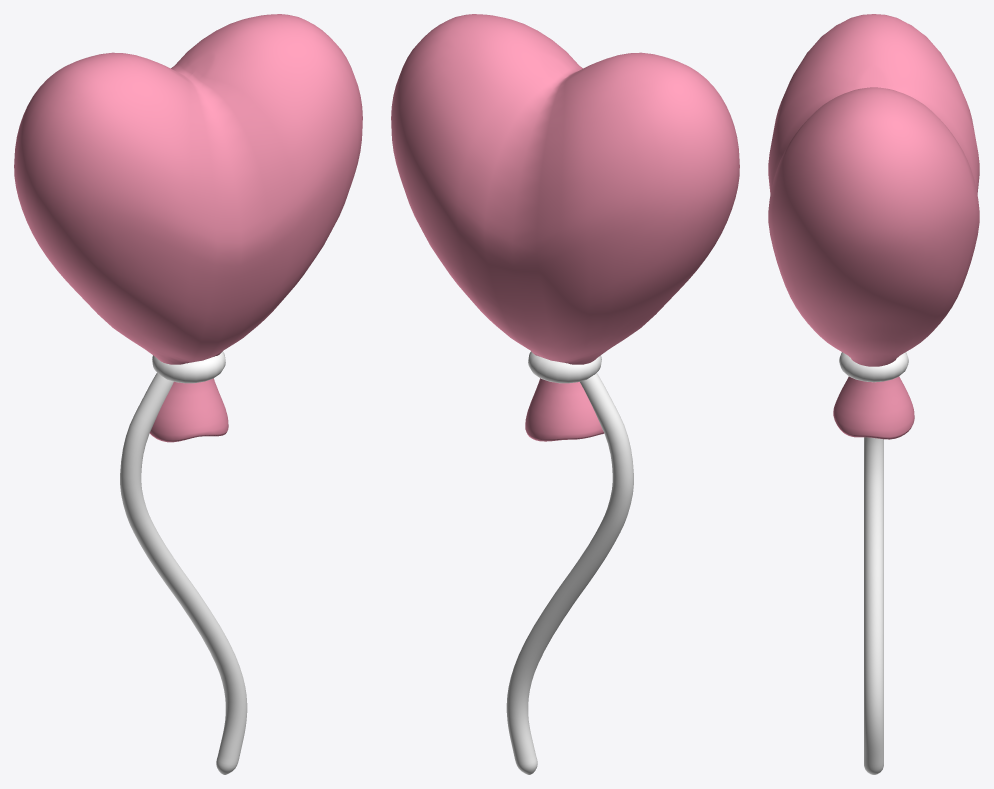
3 renders of one model, left to right at view 1: azimuth 30°, elevation 25°; view 2: azimuth 150°, elevation 25°; view 3: azimuth 270°, elevation 25°, orthographic. The views are drawn at different scales.
Visible parts, largest first — view 1: Balloon; view 2: Balloon; view 3: Balloon.
Boxes of the visible parts, bbox=[...] form: Balloon: bbox=[14, 14, 362, 774]; Balloon: bbox=[391, 14, 739, 774]; Balloon: bbox=[768, 14, 979, 774].
Bounding box in the file's own units: 0.0359 × 0.0779 × 0.0214.
